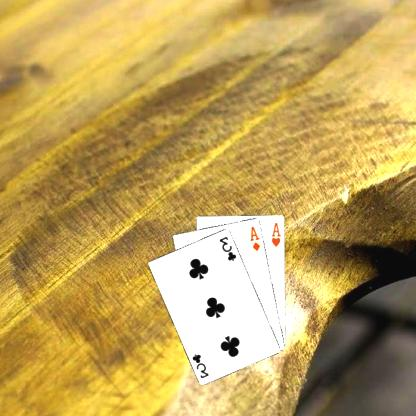3C: (218, 234, 240, 262), (191, 351, 212, 380)
AD: (249, 224, 263, 252)
AH: (270, 220, 284, 248)
